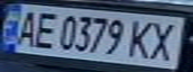0: (54, 11, 78, 52)
3: (72, 14, 93, 53)
7: (87, 15, 109, 54)
9: (103, 16, 130, 56)
A: (9, 7, 42, 47)
E: (30, 9, 60, 50)
K: (124, 17, 160, 61)
X: (142, 19, 184, 62)
